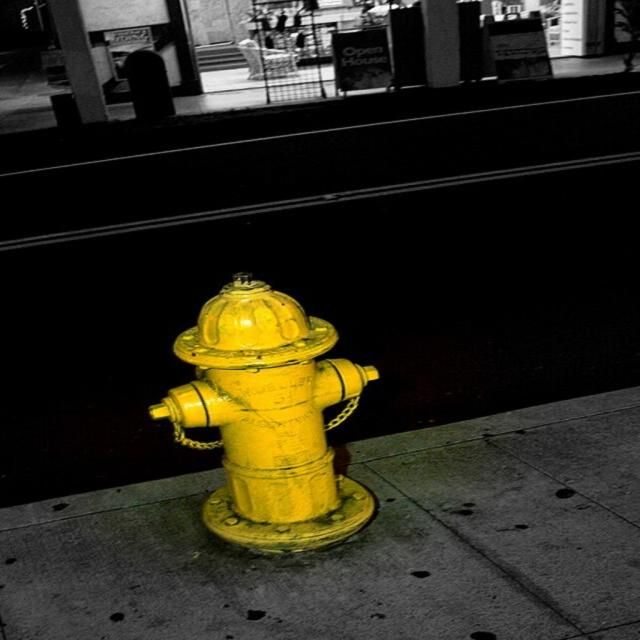fire_hydrant: (150, 275, 379, 557)
